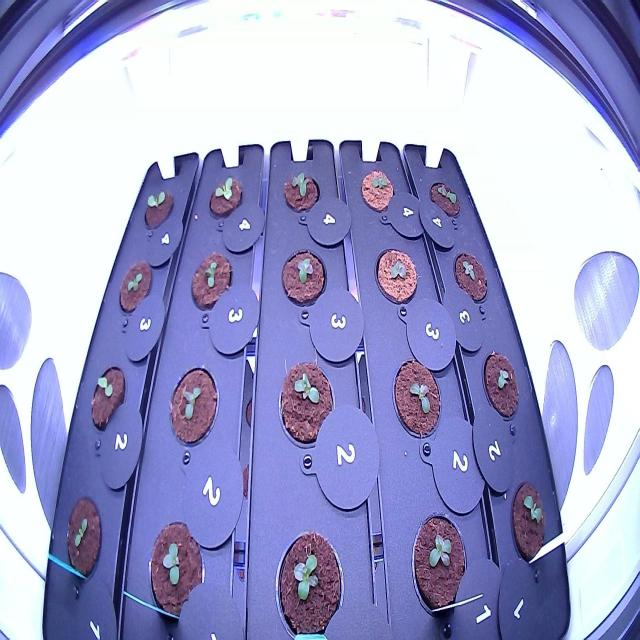germination: (145, 509, 208, 630), (387, 353, 447, 447), (166, 360, 222, 455), (505, 473, 553, 577), (61, 490, 105, 586), (479, 343, 524, 428), (370, 238, 422, 311), (186, 246, 233, 317), (87, 357, 128, 435), (114, 254, 154, 326), (448, 247, 492, 309), (354, 162, 400, 215), (204, 173, 245, 225), (425, 173, 463, 223), (139, 184, 175, 236)
young: (269, 525, 347, 636), (409, 502, 472, 624), (274, 353, 338, 459), (278, 245, 328, 312), (282, 168, 322, 215)
